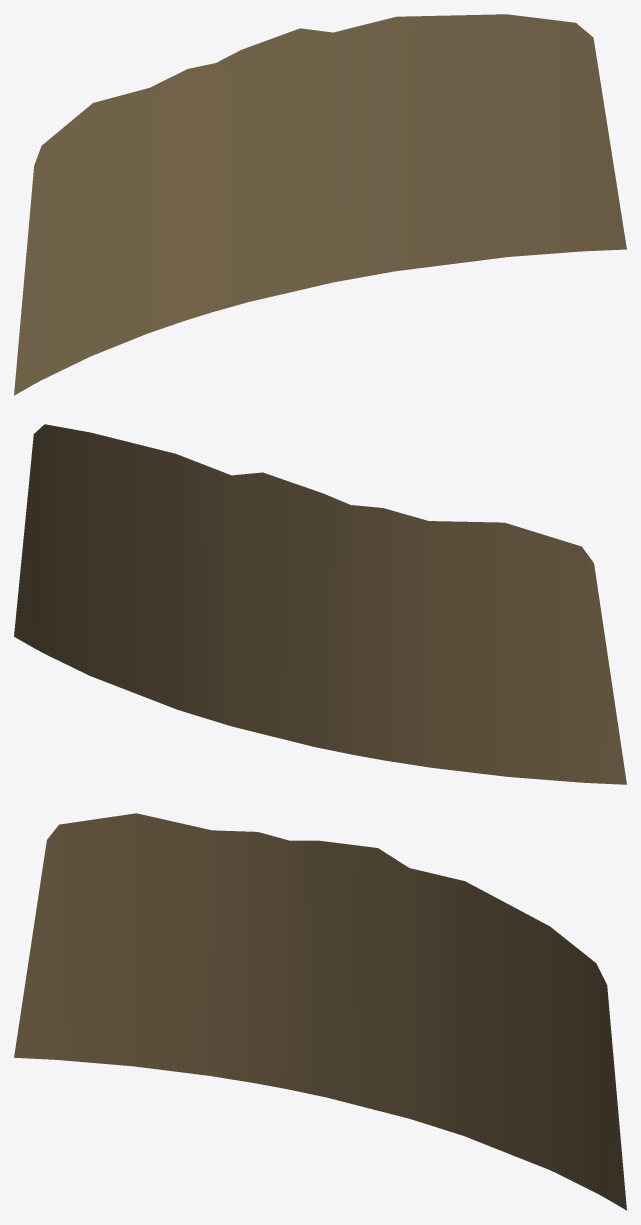
File: background_1.fbx
3 renders of one model, top to bottom at view 1: azimuth 30°, elevation 25°; view 2: azimuth 150°, elevation 25°; view 3: azimuth 330°, elevation 25°, orthographic.
Parts seen in each view (by area): view 1: SM_Env_BackgroundCard_01; view 2: SM_Env_BackgroundCard_01; view 3: SM_Env_BackgroundCard_01.
Part boxes in pixels (left/top/right/bottom): SM_Env_BackgroundCard_01: left=14, top=14, right=626, bottom=395; SM_Env_BackgroundCard_01: left=14, top=424, right=626, bottom=784; SM_Env_BackgroundCard_01: left=14, top=813, right=626, bottom=1210.
Bounding box in the file's own units: 1242 × 509 × 138.
Materials: 1 (1 with a texture image).
